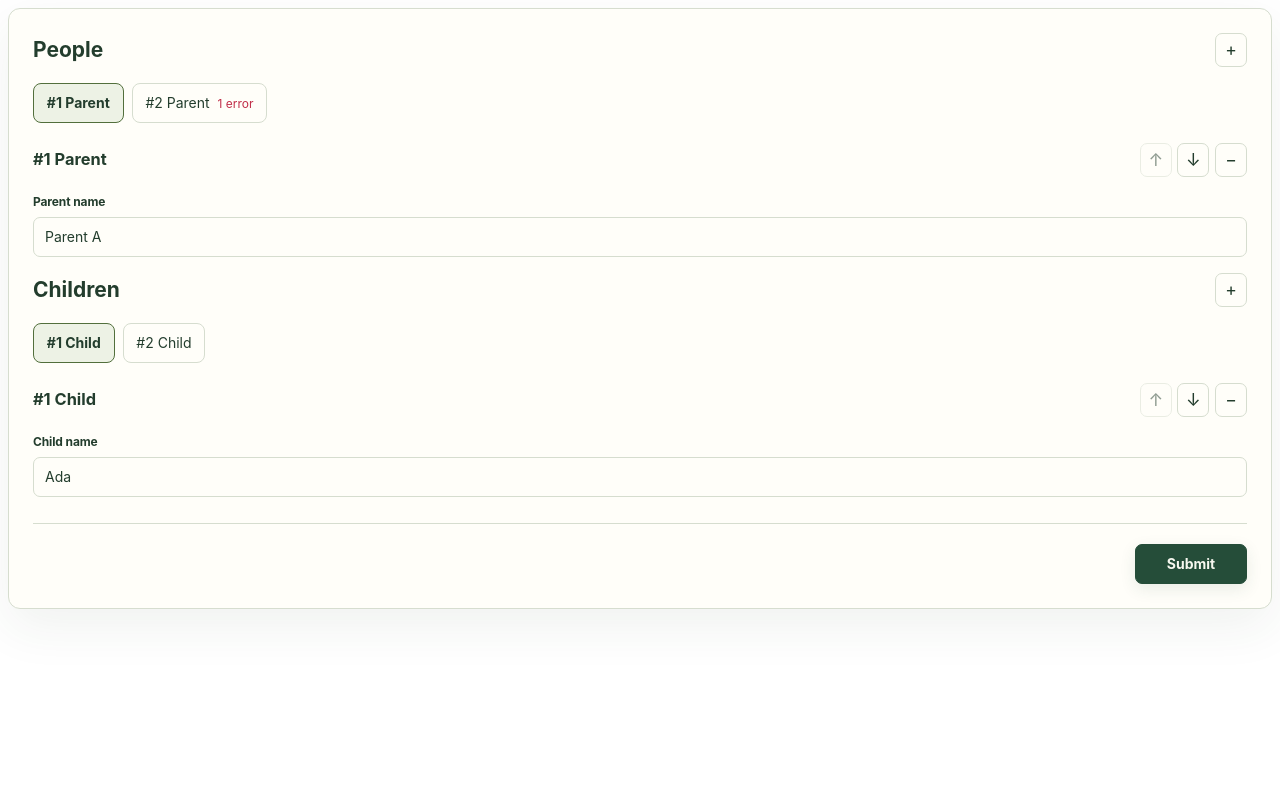
Test: nested repeaters › reveals every inactive ancestor of an invalid nested child and focuses it
The width and height of the screenshot is (1280, 800).
Click the button "Submit".
click(1191, 564)  # box top-left (1135, 544), bottom-right (1247, 584)
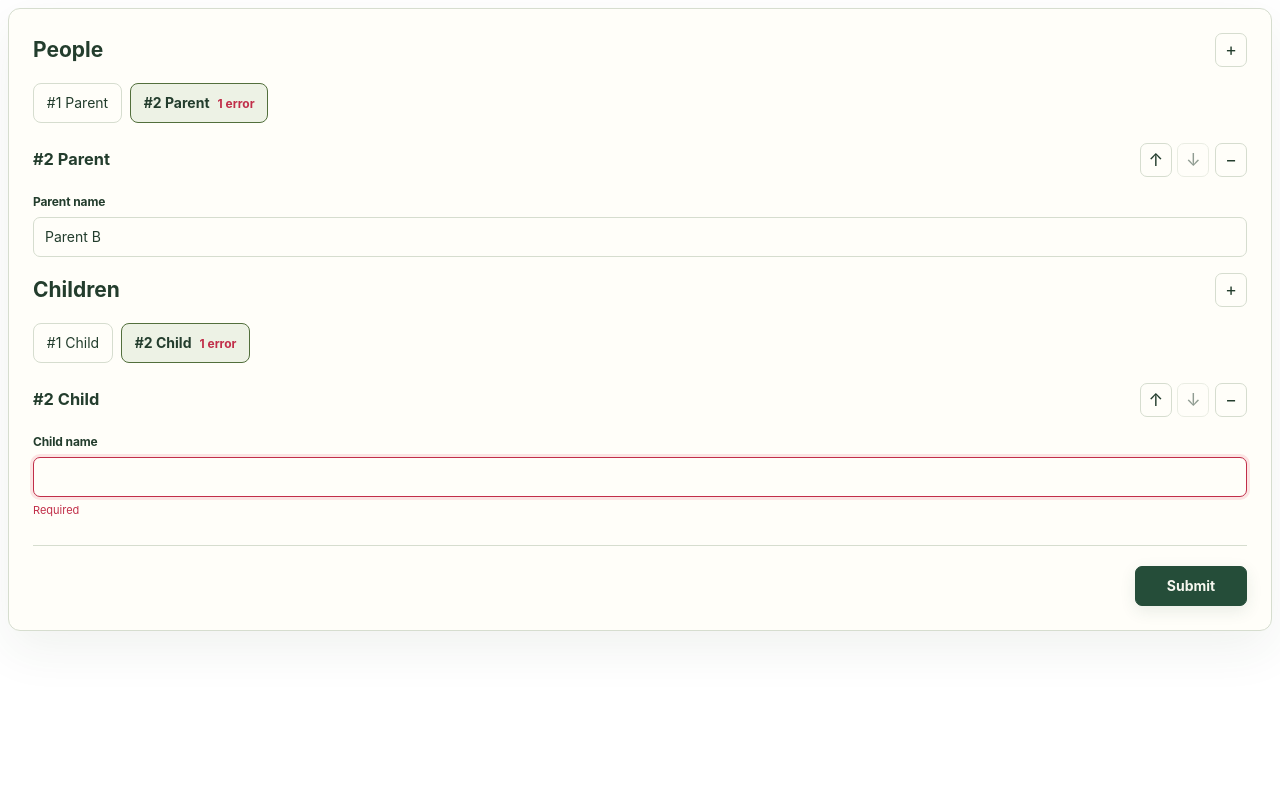
Expected: the field labelled "Child name" is shown, top-left (33, 457), bottom-right (1247, 497)
